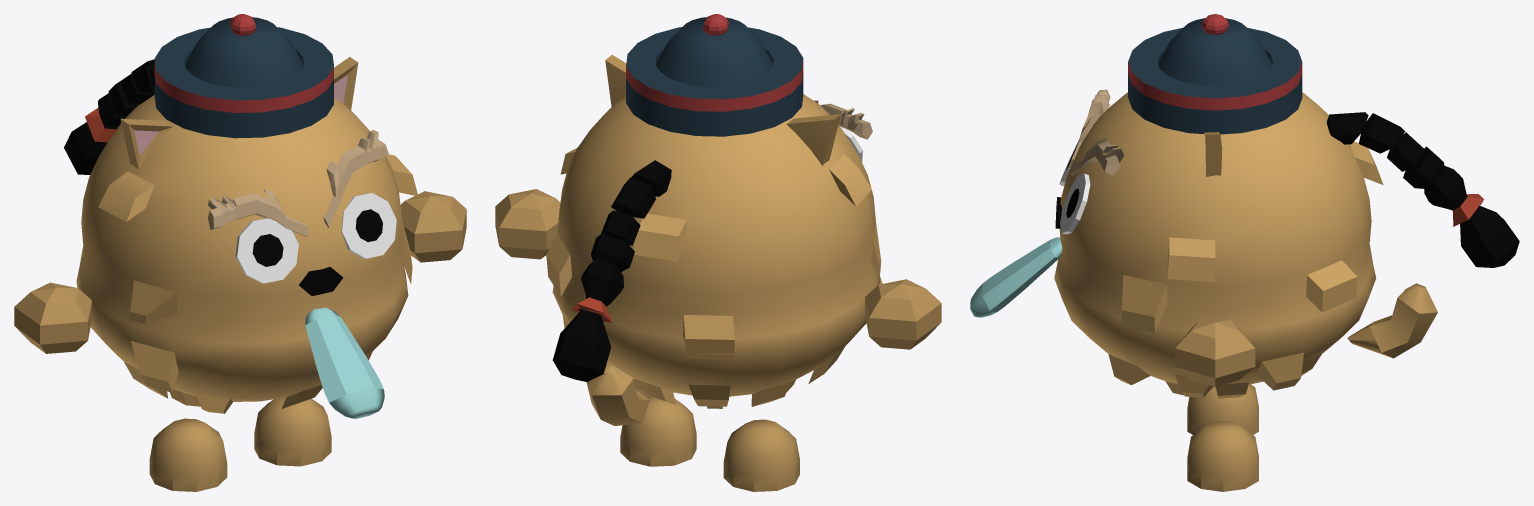
File: Chow Chow.fbx
3 views of the same model, side by side, from view 1: azimuth 30°, elevation 25°; view 2: azimuth 150°, elevation 25°; view 3: azimuth 270°, elevation 25° (orthographic). The views are drawn at different scales.
Parts seen in each view (by area): view 1: Body, Hat, Tongue, R_Leg, L_Leg, R_Hand, Hair, L_Hand, R_eye, L_eye, R_Brown, L_Brown (+3 smaller); view 2: Body, Hat, Hair, R_Leg, R_Hand, L_Leg, L_Hand, Cola, Ear_2, R_Brown, Ear_1; view 3: Body, Hat, Hair, L_Leg, L_Hand, Cola, Tongue, R_Leg, L_eye, L_Brown, R_Brown, Ear_1.
Part boxes in pixels (x1,y1,x2,y2): Body: (76,95,418,413); Hat: (154,17,333,138); Tongue: (305,307,384,418); R_Leg: (149,418,227,491); L_Leg: (254,397,331,466); R_Hand: (14,282,91,353); Hair: (64,59,154,174); L_Hand: (400,191,466,262); R_eye: (235,218,298,283); L_eye: (341,193,396,258); R_Brown: (208,188,307,236); L_Brown: (323,130,388,227); Body: (546,94,882,408); Hat: (626,17,803,136); Hair: (552,160,671,381); R_Leg: (723,419,799,491); R_Hand: (865,279,941,349); L_Leg: (620,395,696,466); L_Hand: (495,189,560,259); Cola: (586,363,649,425); Ear_2: (787,114,840,165); R_Brown: (814,100,872,139); Ear_1: (605,54,626,106); Body: (1054,92,1383,398); Hat: (1128,18,1302,134); Hair: (1326,112,1519,267); L_Leg: (1187,420,1258,491); L_Hand: (1175,319,1255,386); Cola: (1347,283,1437,358); Tongue: (970,237,1062,317); R_Leg: (1187,384,1258,434); L_eye: (1060,173,1090,234); L_Brown: (1070,138,1124,175); R_Brown: (1068,89,1110,167); Ear_1: (1204,132,1222,176).
Size of the model in its own units: 3.66 by 3.59 by 4.11.
